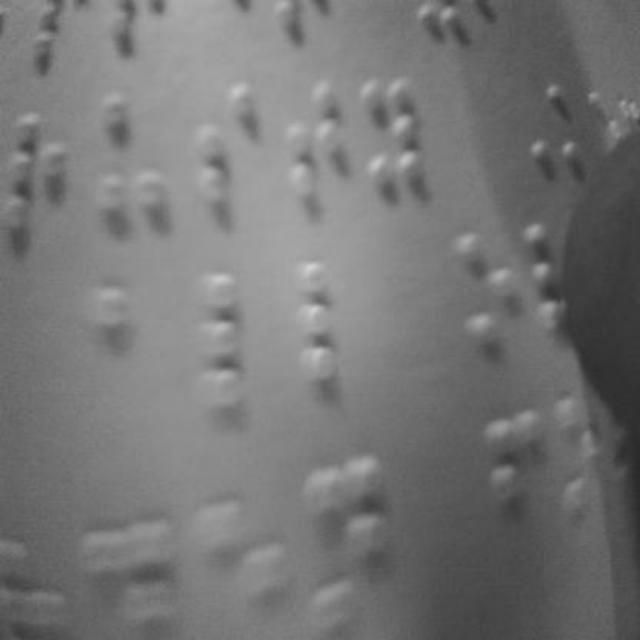braiile: (1, 96, 81, 242), (448, 222, 522, 368), (95, 86, 171, 226), (294, 258, 370, 388), (199, 272, 275, 401), (191, 82, 263, 215), (90, 277, 160, 407), (358, 68, 426, 195), (280, 75, 344, 208)
